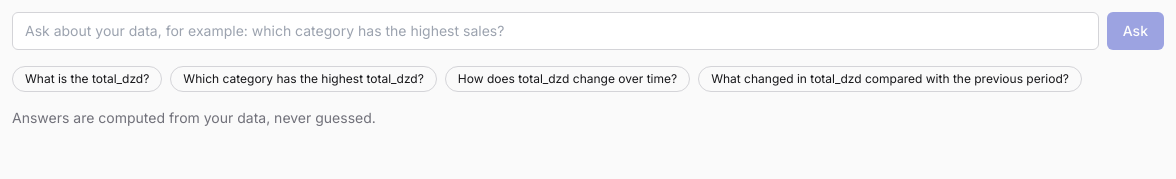
Test: Ask › the rate limit is explained, not shown as an error code
Replace the text in the field named "Your question" with "total sales": (555, 31) [12,12,1099,50]
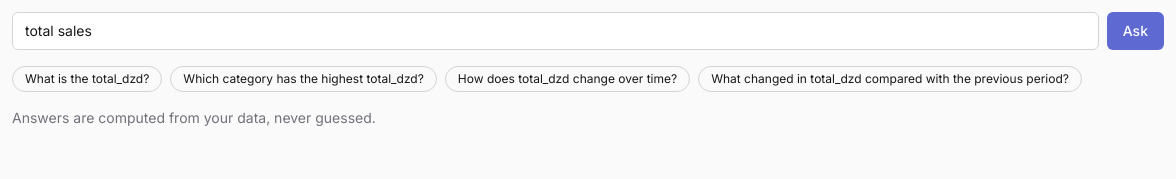
Click the button "Ask": (1135, 31) [1107,12,1164,50]
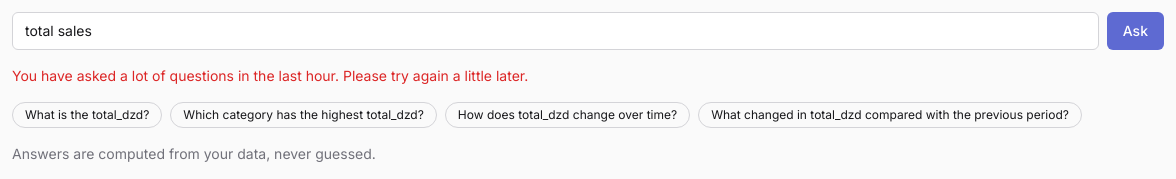
Expected: the message shows "asked a lot of questions", [12,67,528,84]
